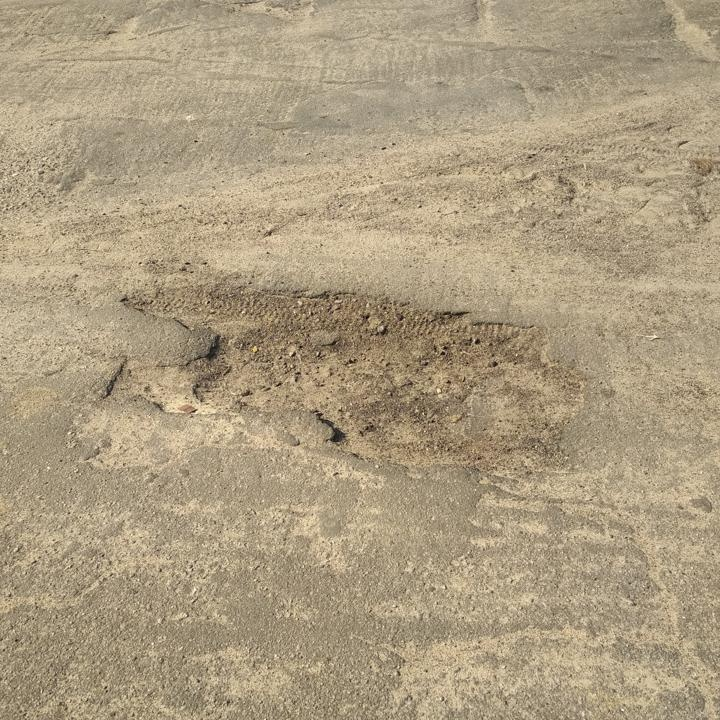pothole: (100, 272, 591, 479)
